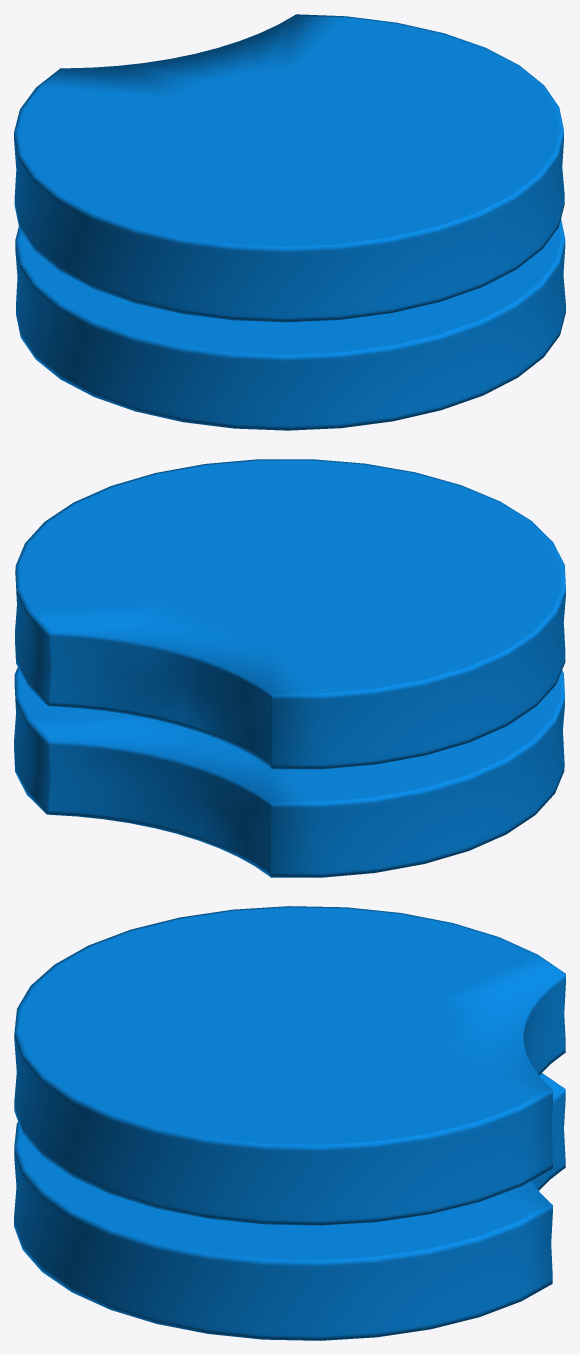
3 views of the same model, one above another, from view 1: azimuth 30°, elevation 25°; view 2: azimuth 150°, elevation 25°; view 3: azimuth 270°, elevation 25° (orthographic). The views are drawn at different scales.
Parts seen in each view (by area): view 1: Cylinder; view 2: Cylinder; view 3: Cylinder.
Boxes of the visible parts, x1=… form: Cylinder: x1=14, y1=14, x2=565, y2=430; Cylinder: x1=14, y1=459, x2=565, y2=877; Cylinder: x1=14, y1=906, x2=565, y2=1340.
Size of the model in its own units: 2 by 0.7535 by 1.9.
